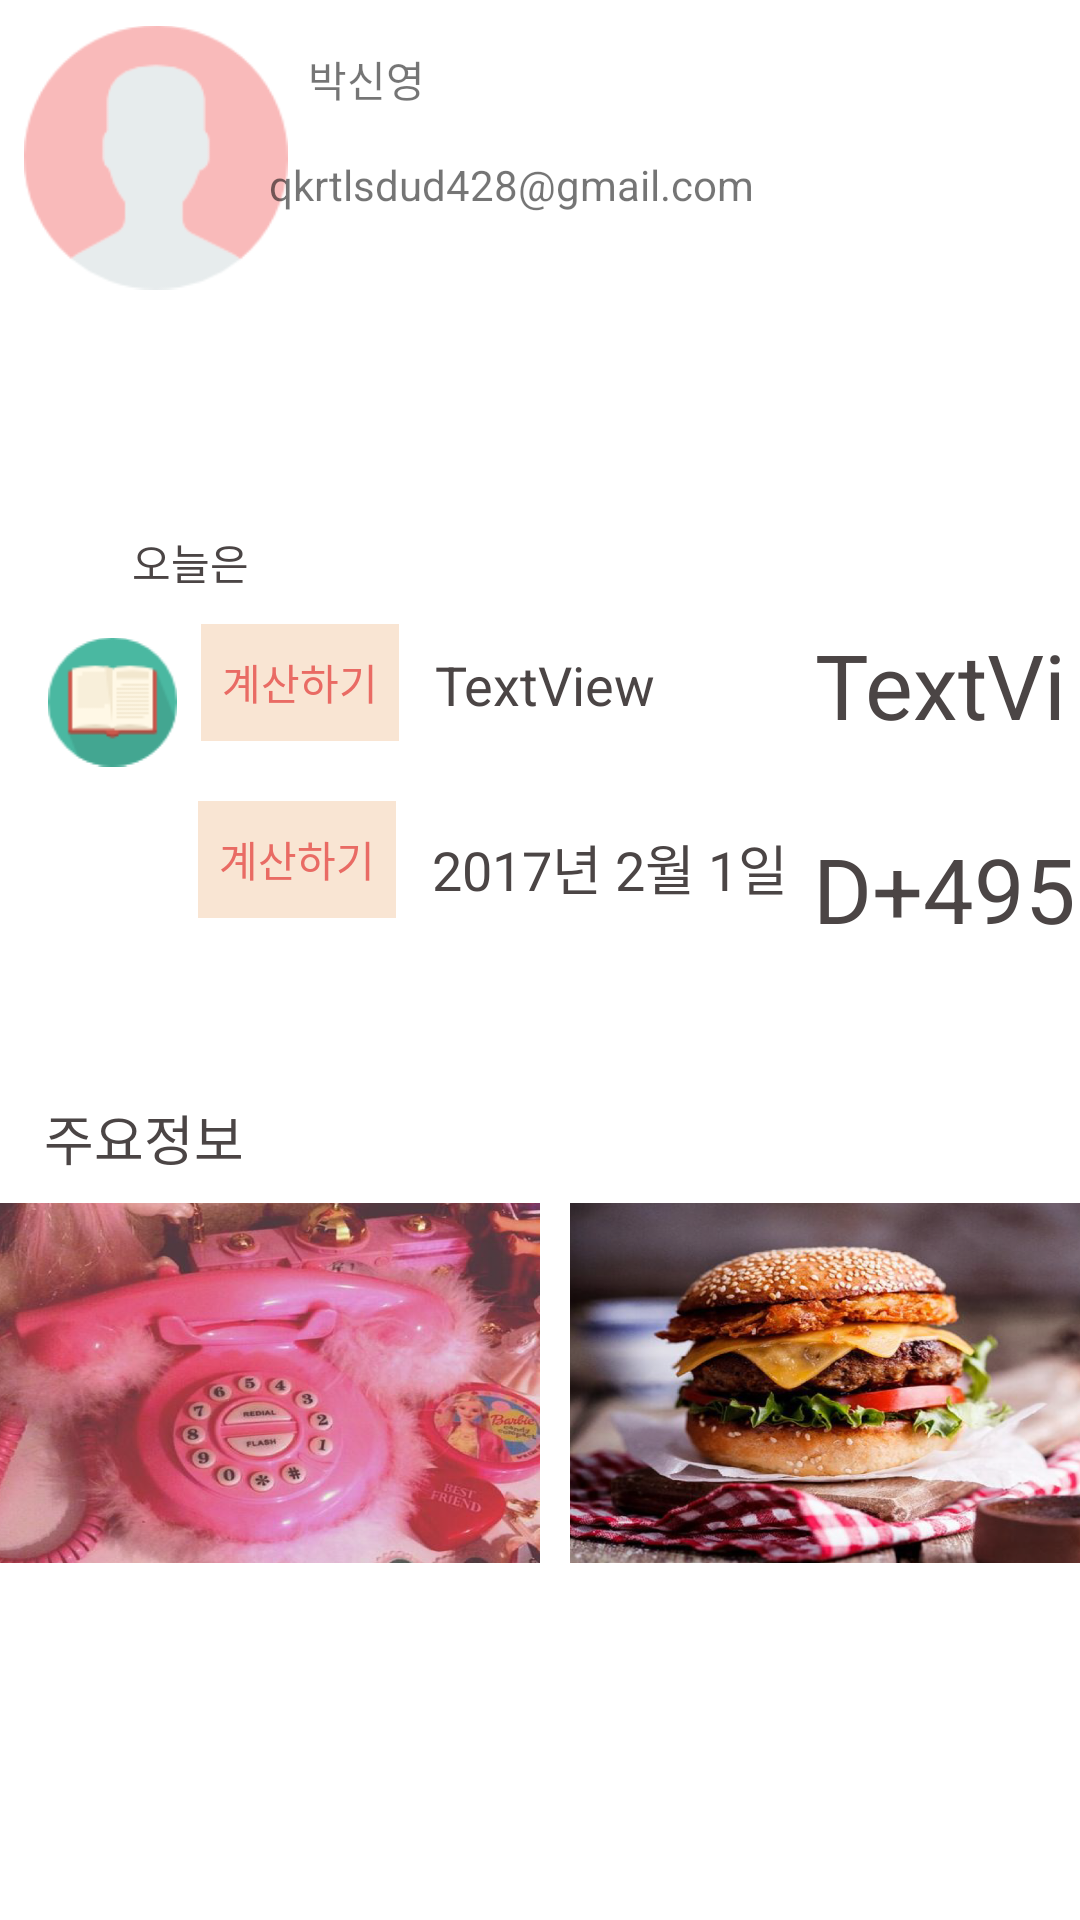

Where to tap for icons on this 1080x1920 app screen, as (x,y):
book: (112,702)
user: (156,142)
